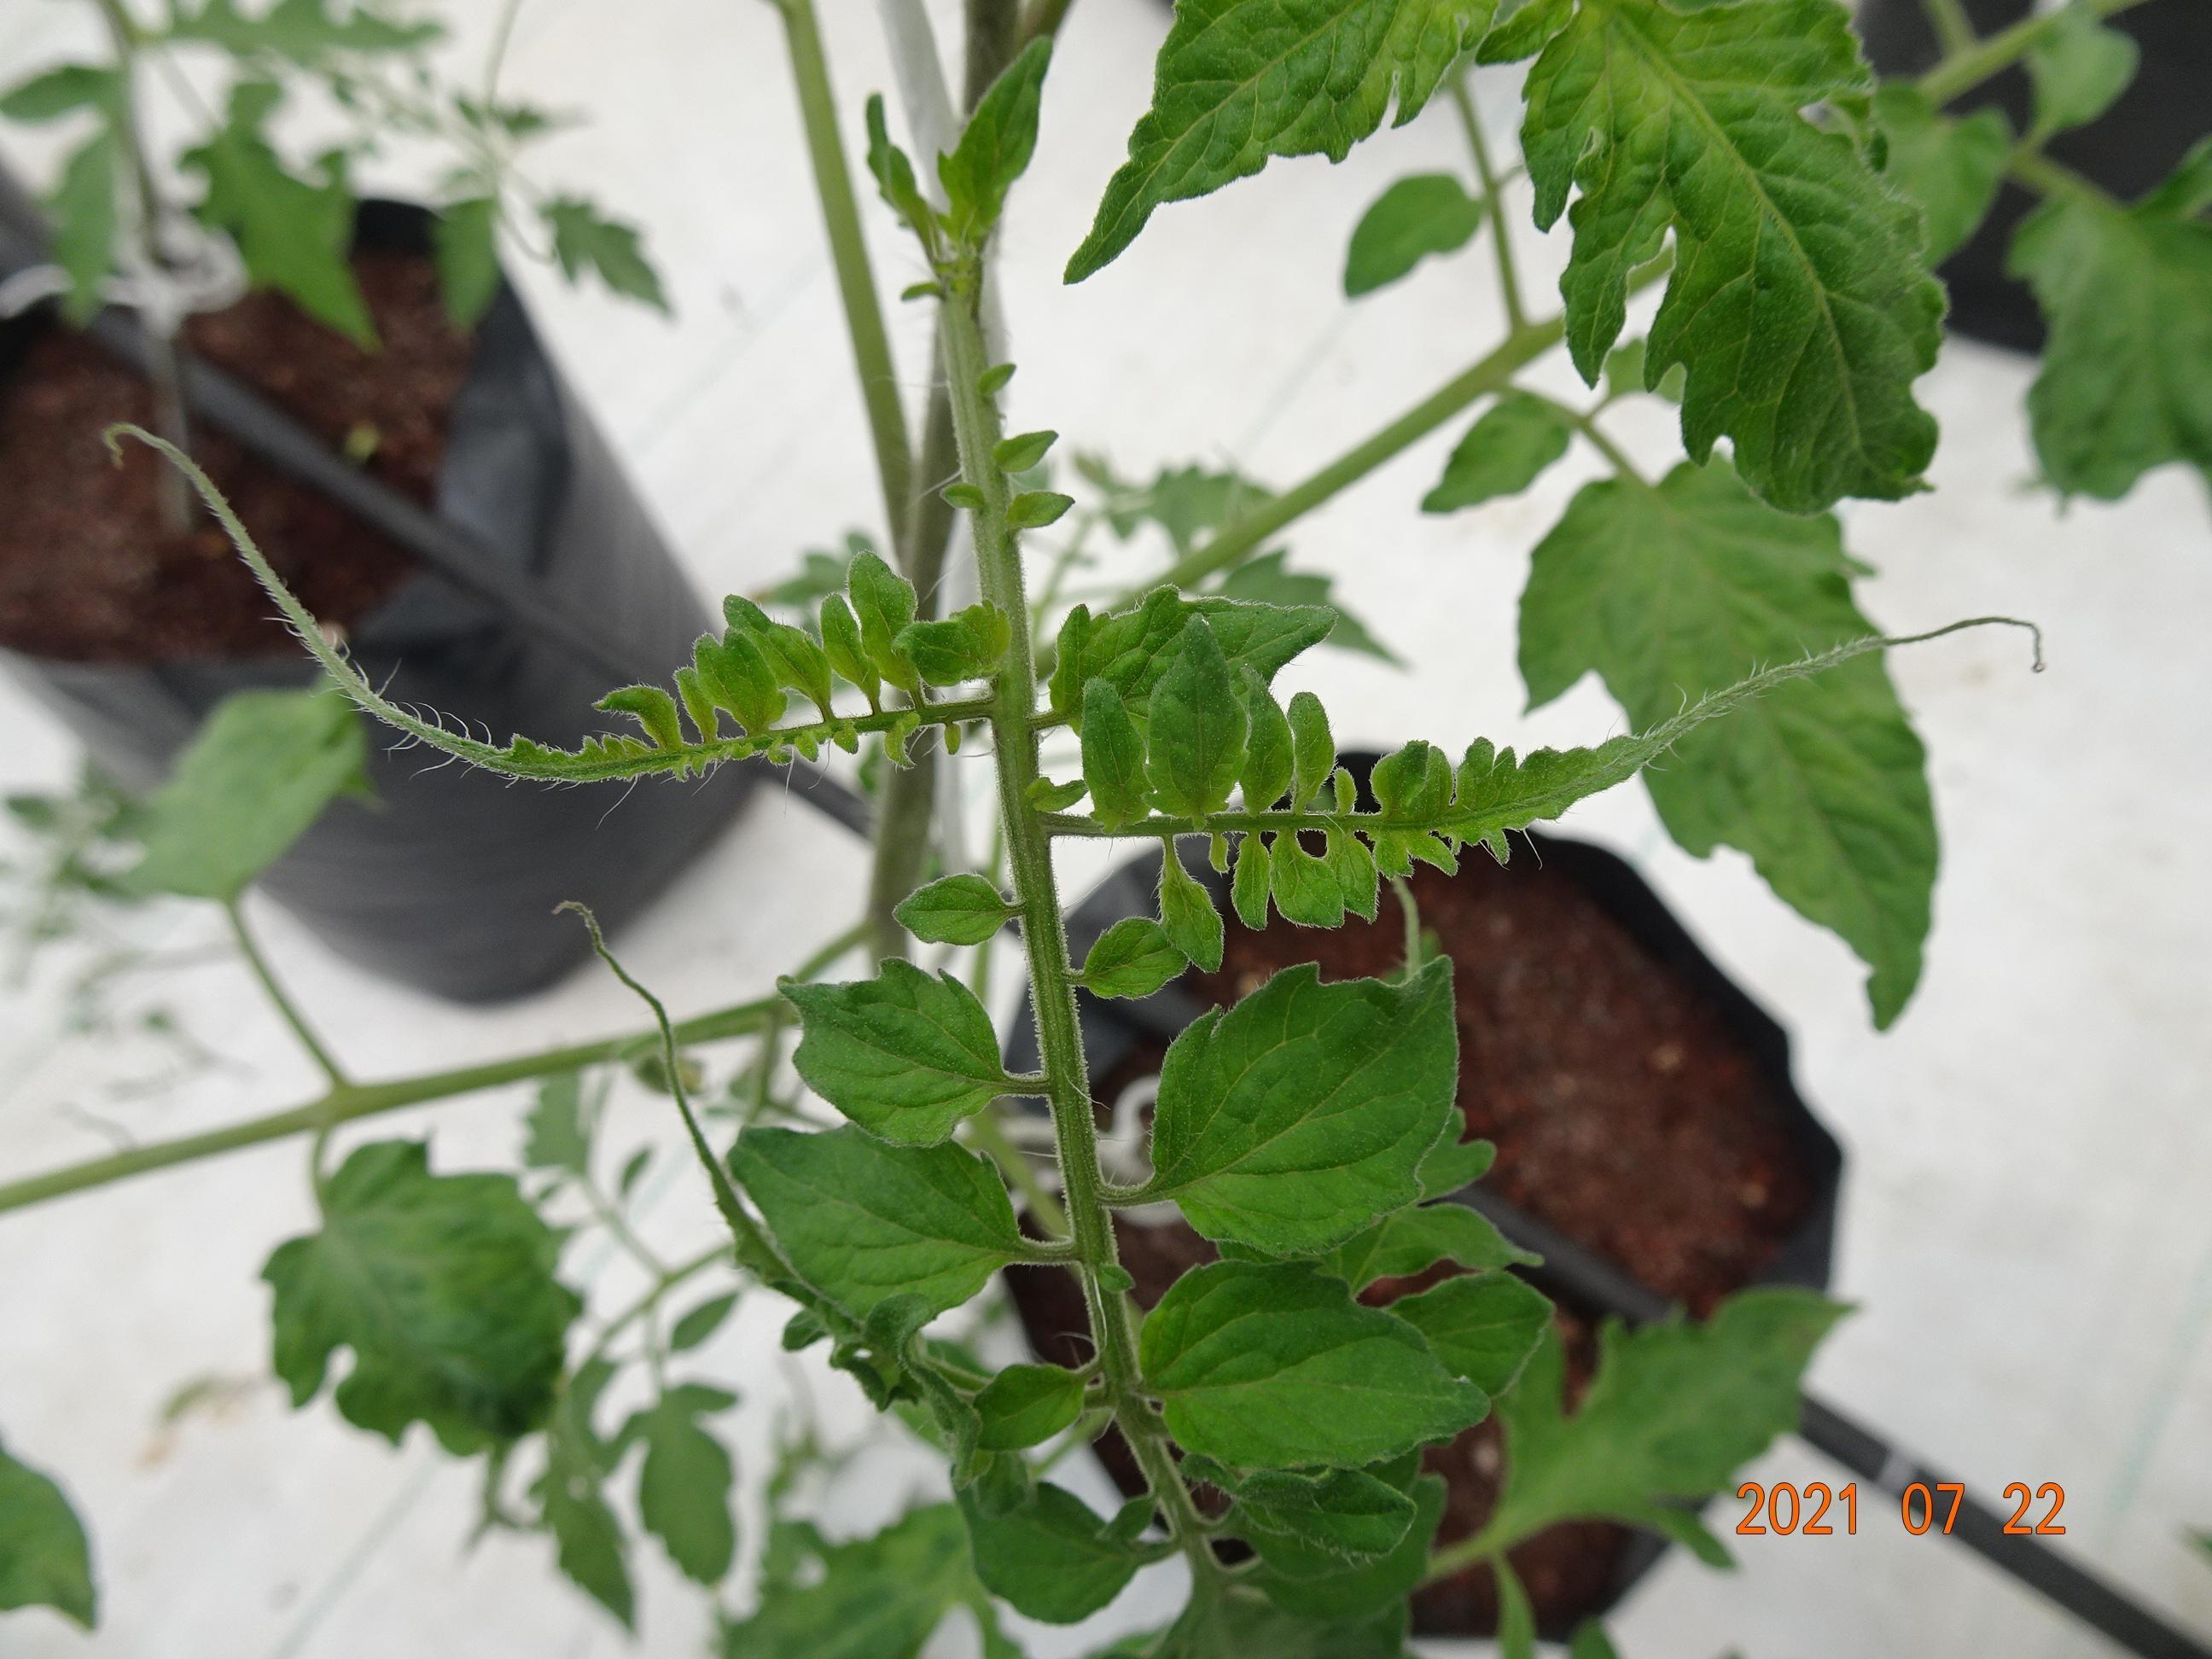Hoja rugoso: (1479, 0, 1944, 514), (1369, 636, 1898, 880), (1062, 2, 1496, 284), (1144, 958, 1456, 1256), (1141, 1262, 1486, 1469), (730, 1124, 1033, 1314), (777, 958, 1045, 1145), (1040, 586, 1334, 735), (1150, 613, 1249, 821), (1080, 678, 1150, 829), (1073, 915, 1184, 999), (894, 873, 1015, 946), (1237, 666, 1292, 812), (1160, 838, 1221, 971), (1273, 831, 1345, 924), (1291, 692, 1332, 809), (1322, 831, 1376, 920), (1235, 833, 1270, 927)
Pedunculo: (866, 94, 1137, 1452)
